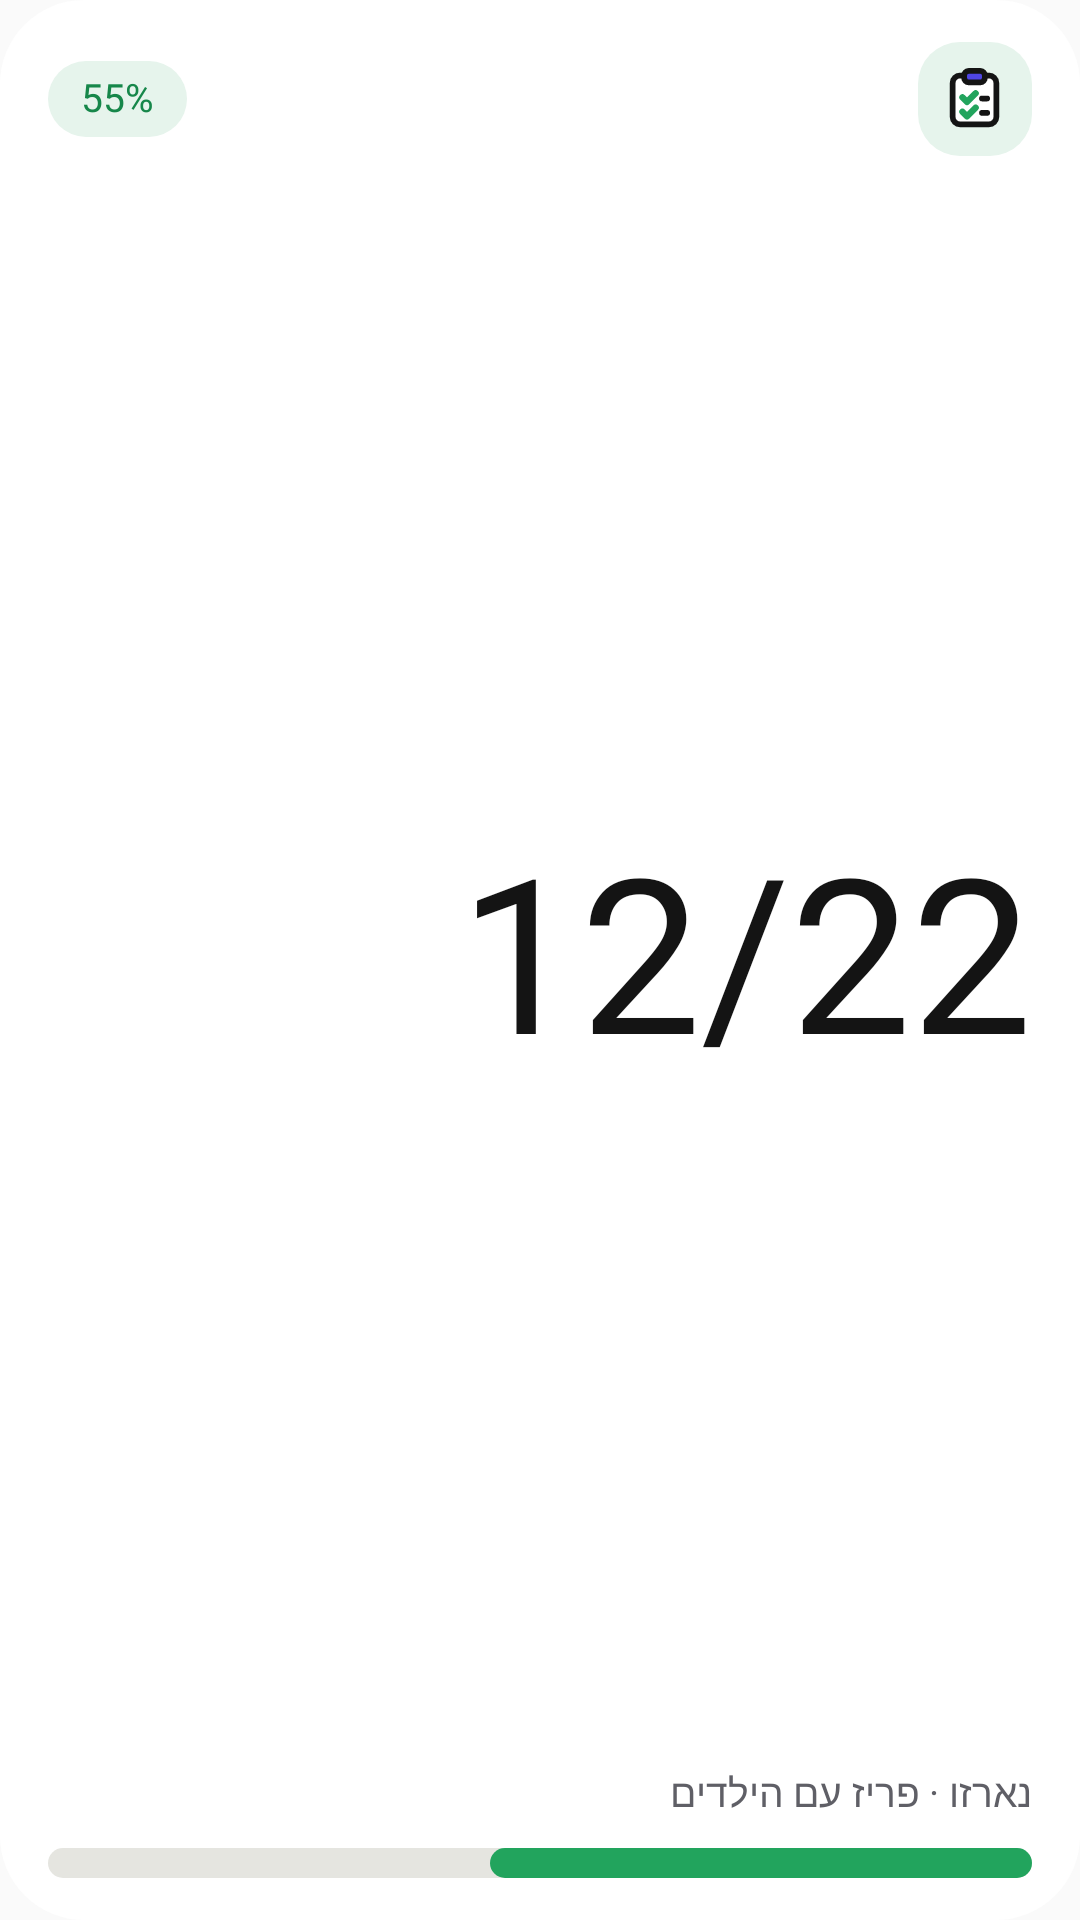

Icons on this 1080 x 1920 Android screen, each with its box as (x1, y1, x2, y2):
checklist: (949, 68, 1000, 128)
